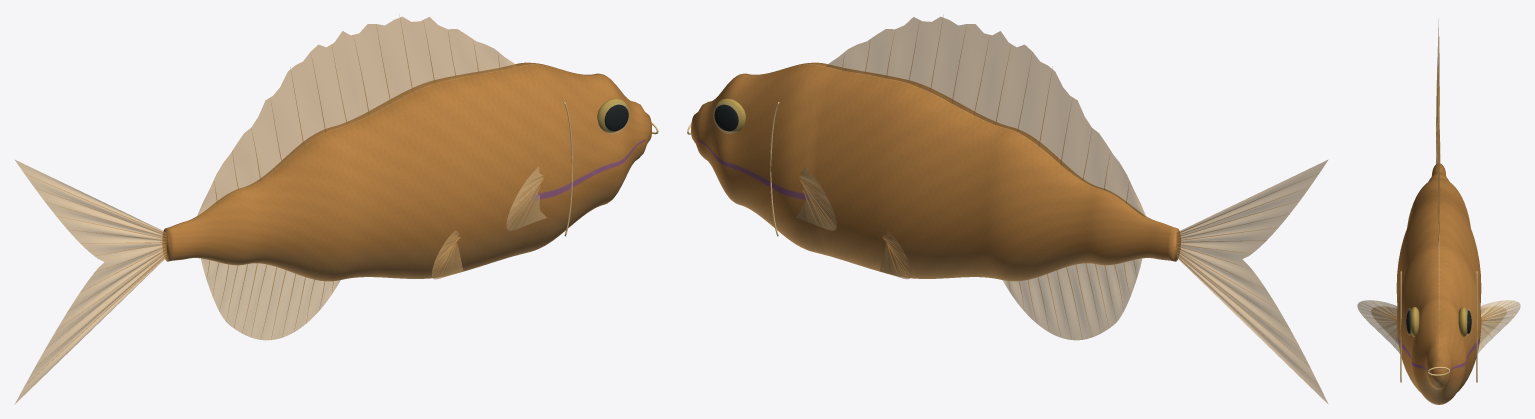
The model's file is anthias-desktop.glb.
3 renders of one model, left to right at view 1: azimuth 30°, elevation 25°; view 2: azimuth 150°, elevation 25°; view 3: azimuth 270°, elevation 25°, orthographic. The views are drawn at different scales.
Visible parts, largest first — view 1: skin, dorsal, tail, anal, dorsal-ray, pectoral-left, pelvic-left; view 2: skin, dorsal, tail, anal, dorsal-ray, pectoral-left, pelvic-left; view 3: skin, pectoral-left, pelvic-left, dorsal-ray, operculum, eye-iris--1, tail, dorsal, eye-pupil--1.
Boxes of the visible parts, x1=… form: skin: x1=162, y1=62, x2=651, y2=281; dorsal: x1=197, y1=16, x2=516, y2=216; tail: x1=14, y1=160, x2=166, y2=404; anal: x1=201, y1=258, x2=340, y2=340; dorsal-ray: x1=25, y1=17, x2=543, y2=385; pectoral-left: x1=506, y1=167, x2=546, y2=230; pelvic-left: x1=432, y1=230, x2=463, y2=279; skin: x1=691, y1=62, x2=1180, y2=281; dorsal: x1=826, y1=17, x2=1146, y2=217; tail: x1=1176, y1=160, x2=1327, y2=403; anal: x1=1003, y1=258, x2=1141, y2=340; dorsal-ray: x1=799, y1=15, x2=1318, y2=381; pectoral-left: x1=796, y1=167, x2=836, y2=230; pelvic-left: x1=880, y1=230, x2=911, y2=279; skin: x1=1396, y1=163, x2=1481, y2=404; pectoral-left: x1=1357, y1=300, x2=1520, y2=353; pelvic-left: x1=1371, y1=306, x2=1506, y2=342; dorsal-ray: x1=1360, y1=42, x2=1514, y2=341; operculum: x1=1400, y1=271, x2=1477, y2=382; eye-iris--1: x1=1410, y1=307, x2=1467, y2=336; tail: x1=1436, y1=19, x2=1439, y2=163; dorsal: x1=1438, y1=108, x2=1439, y2=241; eye-pupil--1: x1=1406, y1=310, x2=1471, y2=333.
Bounding box in the file's own units: 0.6032 × 0.2684 × 0.1621.
Materials: 11 (1 with a texture image).
